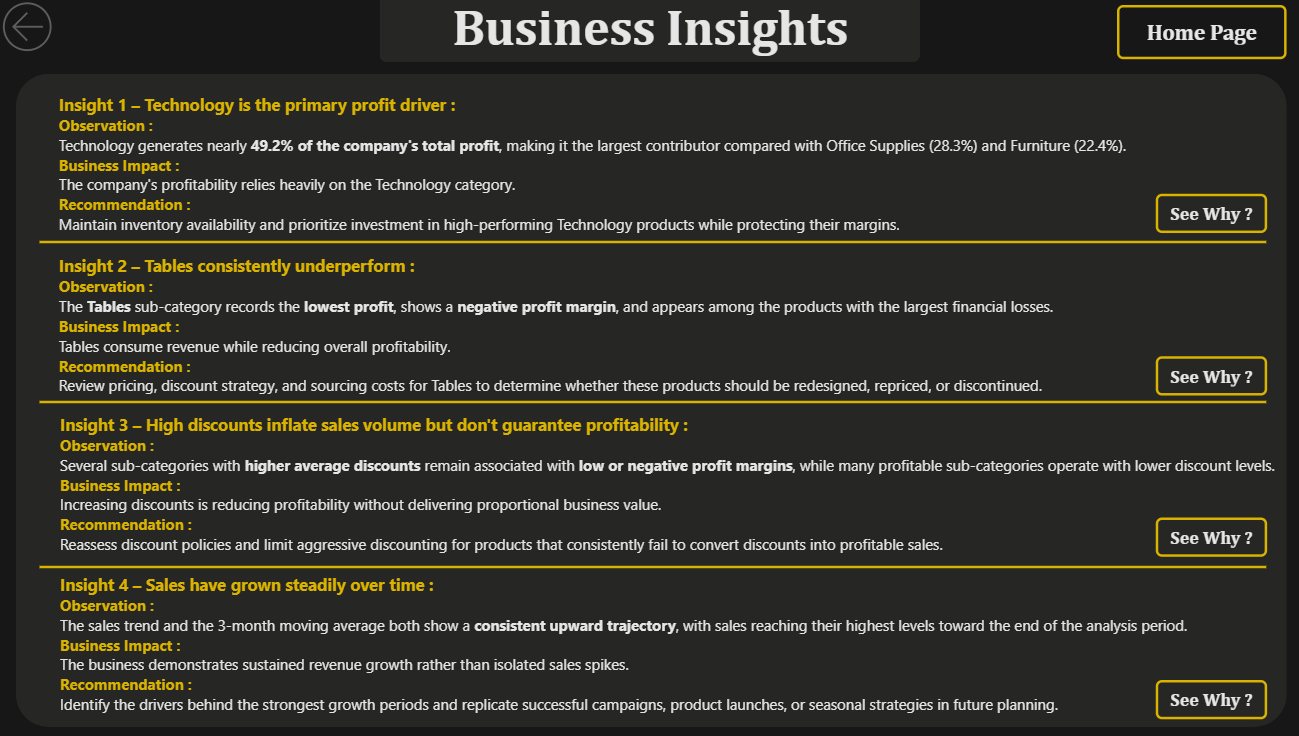

Layout of this report page (visuals, bound fields, positions):
{"tool":"powerbi","page":{"name":"Insights","canvas":[2100,1200],"ordinal":4},"visuals":[{"type":"shape","box":[615,0,869.6,107.9],"z":0},{"type":"shape","box":[30.5,126.3,2044.6,1050.8],"z":1000},{"type":"textbox","box":[716.8,0,665.9,103.9],"z":2000},{"type":"textbox","box":[94.9,151.8,1767.4,242],"z":3000},{"type":"textbox","box":[94.9,412.8,1767.4,256.2],"z":4000},{"type":"textbox","box":[95.7,668,1979.5,238.3],"z":5000},{"type":"textbox","box":[95.7,924.6,1834.9,240.3],"z":6000},{"type":"shape","box":[69.2,382.9,1973.4,30.5],"z":7000},{"type":"shape","box":[69.2,639.5,1973.4,30.5],"z":8000},{"type":"shape","box":[69.2,904.2,1973.4,30.5],"z":9000},{"type":"actionButton","box":[1863.4,580.4,179.2,63.1],"z":11000},{"type":"actionButton","box":[1863.4,841.1,179.2,63.1],"z":12000},{"type":"actionButton","box":[1863.4,1101.7,179.2,63.1],"z":12001},{"type":"actionButton","box":[1802.3,16.3,272.9,87.6],"z":12002},{"type":"actionButton","box":[1863.4,319.7,179.2,63.1],"z":12003},{"type":"actionButton","box":[0,0,97.3,102],"z":12004}]}

Visuals, with their boxes in screenshot pixels (x1, y1, x2, y2), scaled from the page's 2100x1200 canvas onto the 1299x736 screenshot:
shape: l=380, t=0, r=918, b=66
shape: l=19, t=77, r=1284, b=722
textbox: l=443, t=0, r=855, b=64
textbox: l=59, t=93, r=1152, b=242
textbox: l=59, t=253, r=1152, b=410
textbox: l=59, t=410, r=1284, b=556
textbox: l=59, t=567, r=1194, b=714
shape: l=43, t=235, r=1263, b=254
shape: l=43, t=392, r=1263, b=411
shape: l=43, t=555, r=1263, b=573
actionButton: l=1153, t=356, r=1263, b=395
actionButton: l=1153, t=516, r=1263, b=555
actionButton: l=1153, t=676, r=1263, b=714
actionButton: l=1115, t=10, r=1284, b=64
actionButton: l=1153, t=196, r=1263, b=235
actionButton: l=0, t=0, r=60, b=63
